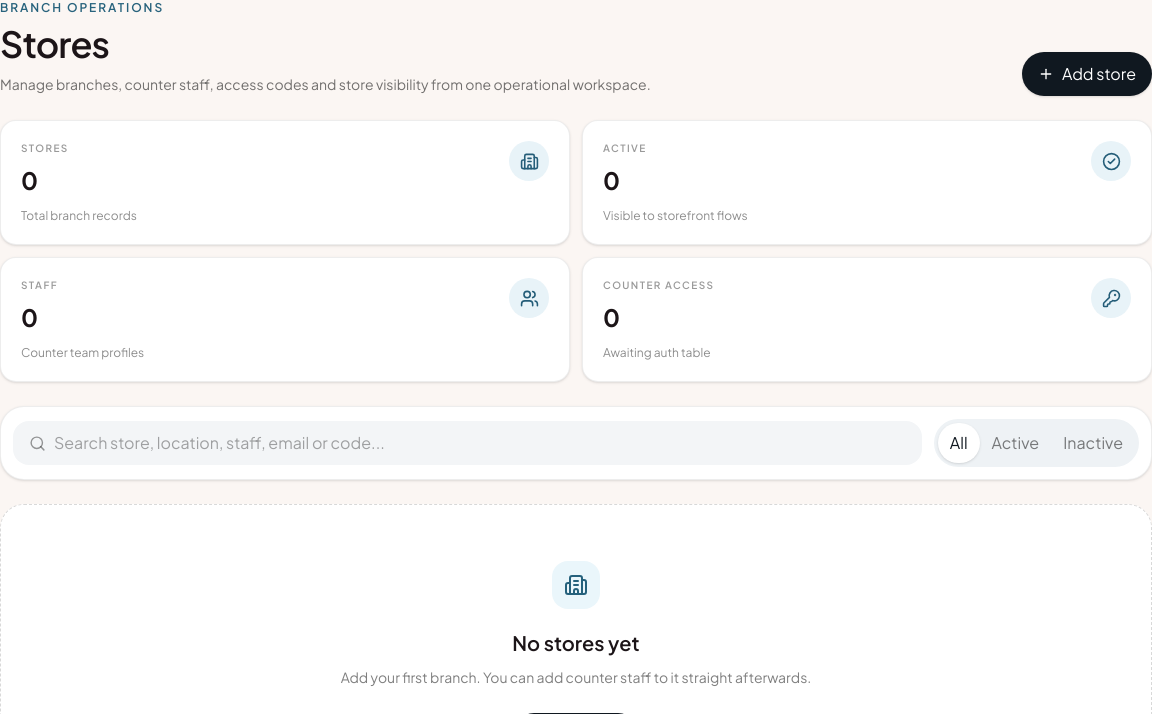
Test: StoreManagement — creating the first store › offers the create form when there are no stores at all
The image size is (1152, 714).
Expected: the heading "No stores yet" is shown, top-left (512, 630), bottom-right (640, 655)
Step 1. Click the 1st button "Add store" → point(1087, 74), box top-left (1022, 52), bottom-right (1151, 96)
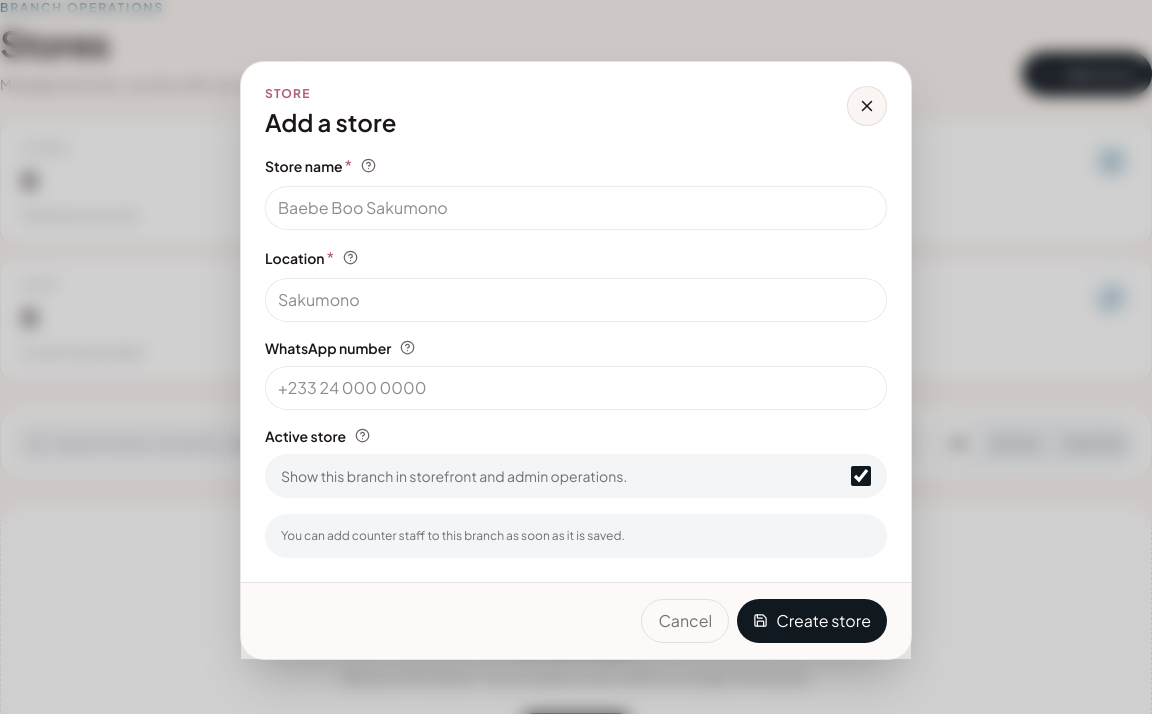
Expected: the heading "Add a store" is shown, top-left (265, 106), bottom-right (396, 138)
Expected: the field labelled "Store name" is shown, top-left (265, 186), bottom-right (887, 230)
